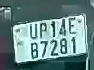1: (68, 36, 76, 54), (50, 22, 58, 37)
2: (49, 39, 59, 57)
4: (59, 19, 67, 37)
7: (40, 40, 48, 57)
8: (59, 38, 67, 55)
B: (30, 42, 39, 59)
E: (68, 17, 78, 34)
P: (38, 22, 47, 38)
U: (27, 22, 38, 41)
